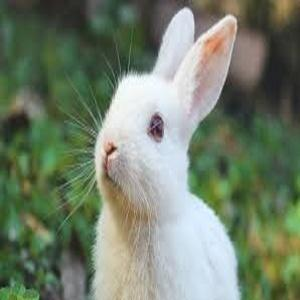rabbit: (94, 7, 241, 300)
